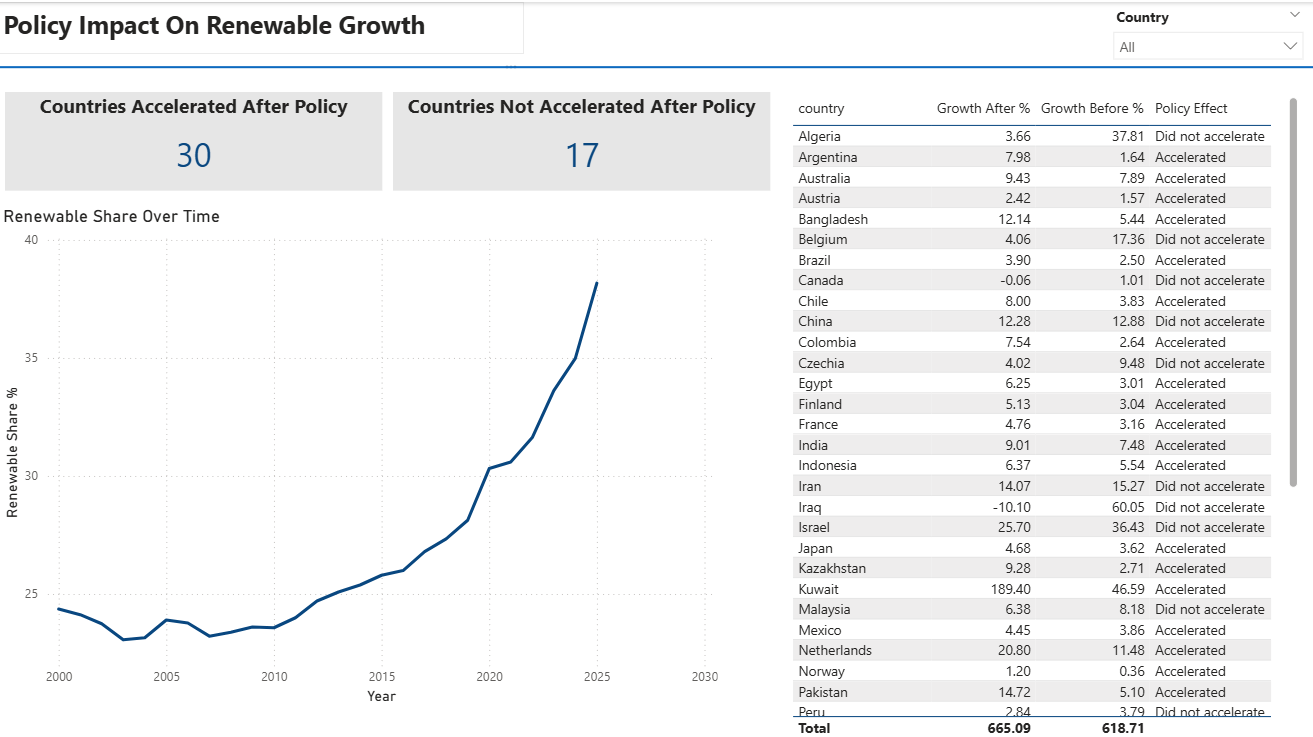

This screenshot's page, from the dashboard's own definition file:
{"tool":"powerbi","page":{"name":"4_Policy_Impact","canvas":[1280,720],"ordinal":3},"visuals":[{"type":"card","title":"Countries Accelerated After Policy","fields":{"Values":["CountNonNull(vw_policy_summary.country)"]},"box":[7,88,367,96],"z":0},{"type":"textbox","box":[0,0,511.6,50.6],"z":1000},{"type":"lineChart","title":"Renewable Share Over Time","fields":{"Category":["fact_energy.year"],"Y":["Avg(fact_energy.renewables_share_pct)"]},"box":[0,198.4,705.2,489.2],"z":2000},{"type":"slicer","fields":{"Values":["dim_country.country"]},"box":[1075,0,205,63],"z":3000},{"type":"tableEx","fields":{"Values":["vw_policy_summary.country","Sum(vw_policy_summary.growth_after)","Sum(vw_policy_summary.growth_before)","vw_policy_summary.policy_effect"]},"box":[767,88,502,632],"z":4000},{"type":"shape","box":[0,57,1280,12],"z":5000},{"type":"card","title":"Countries Not Accelerated After Policy","fields":{"Values":["CountNonNull(vw_policy_summary.country)"]},"box":[384,88,367,96],"z":6000}]}

Visuals, with their boxes in screenshot pixels (x1, y1, x2, y2), scaled from the page's 1280x720 canvas onto the 1313x737 screenshot:
"Countries Accelerated After Policy" card: 7/90/384/188
textbox: 0/0/525/52
"Renewable Share Over Time" lineChart: 0/203/723/704
slicer - dim_country.country: 1103/0/1312/64
tableEx - vw_policy_summary.country x Sum(vw_policy_summary.growth_after): 787/90/1302/736
shape: 0/58/1312/71
"Countries Not Accelerated After Policy" card: 394/90/770/188
